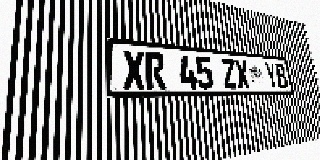4: (178, 55, 198, 89)
5: (195, 56, 214, 89)
B: (274, 63, 289, 89)
R: (144, 52, 166, 89)
X: (122, 50, 146, 89), (234, 59, 250, 89)
Y: (264, 62, 279, 89)
Z: (220, 58, 238, 89)
